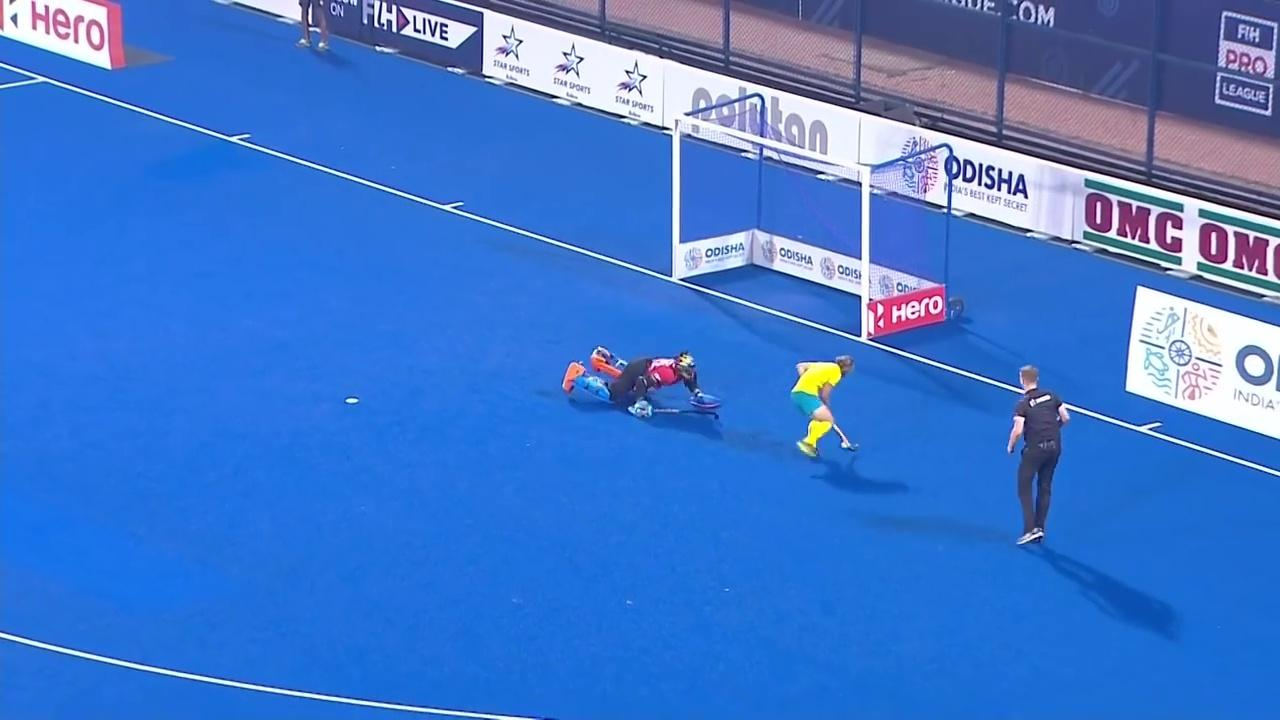ball: (836, 436, 857, 453)
